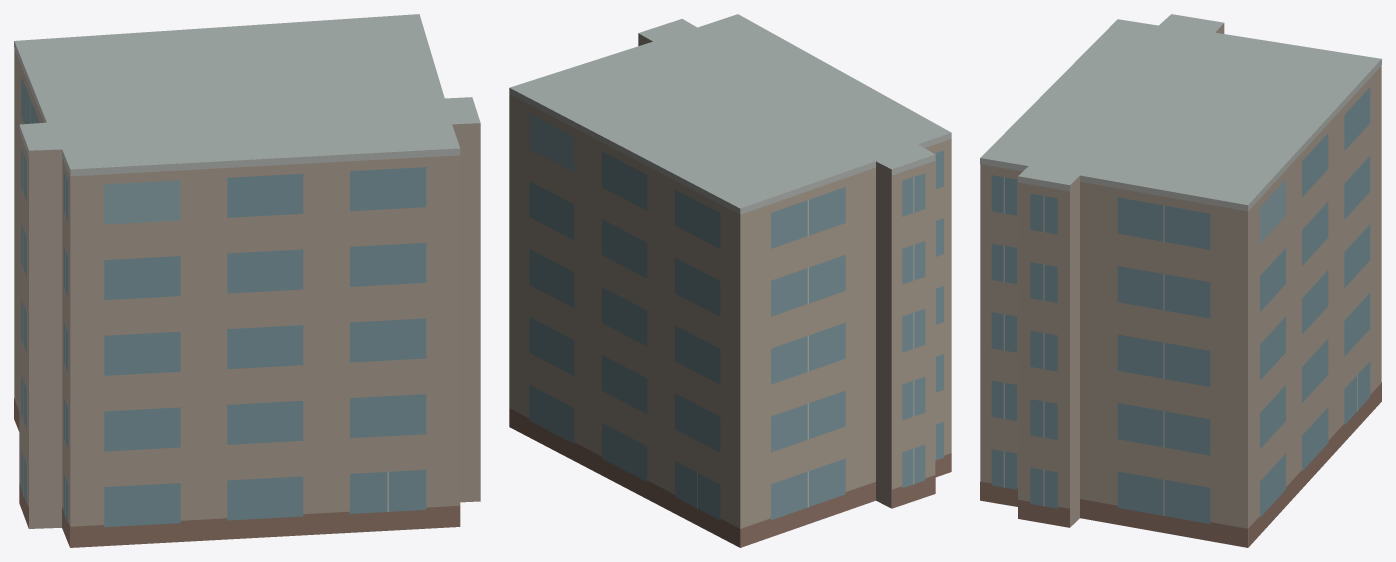
The model's file is survey-upis-32871310.glb.
The picture shows the model from 3 angles, left to right: view 1: azimuth 30°, elevation 25°; view 2: azimuth 150°, elevation 25°; view 3: azimuth 270°, elevation 25°; orthographic projection. The views are drawn at different scales.
Parts seen in each view (by area): view 1: survey-upis-32871310.tmp; view 2: survey-upis-32871310.tmp; view 3: survey-upis-32871310.tmp.
Boxes of the visible parts, x1,y1,x2,y2 form: survey-upis-32871310.tmp: (14,14,480,547); survey-upis-32871310.tmp: (509,14,951,547); survey-upis-32871310.tmp: (980,14,1381,547).
Size of the model in its own units: 16.05 by 13.4 by 14.24.
